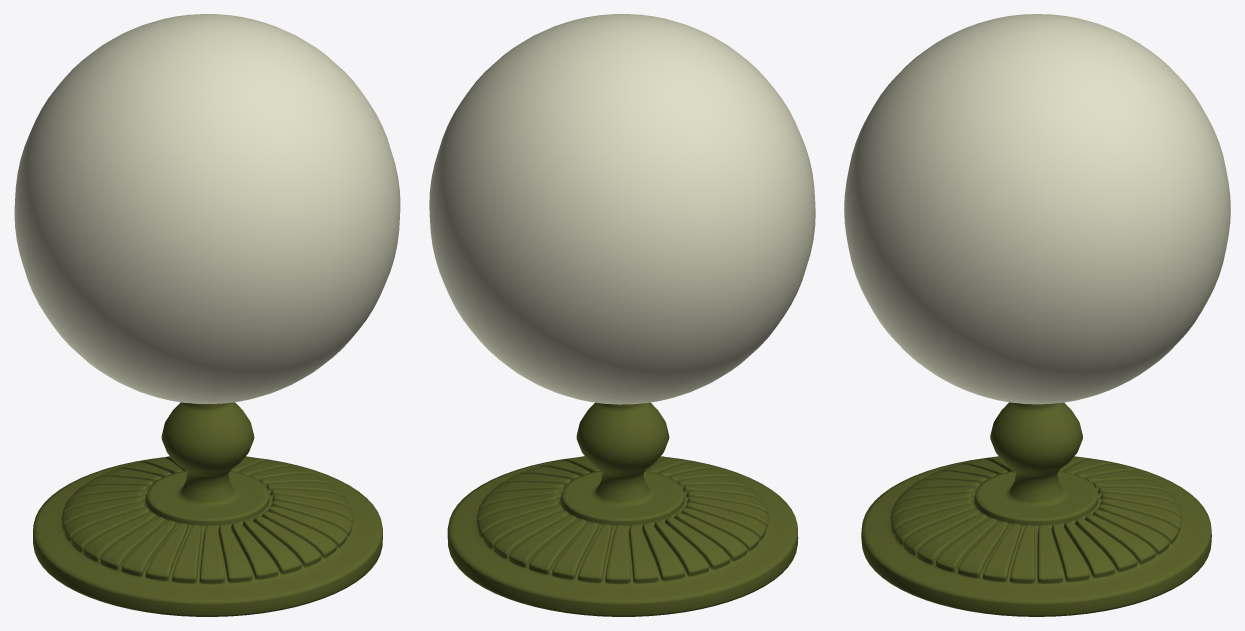
Rendered from uploads_files_1911167_magic_sphere.FBX.
3 views of the same model, side by side, from view 1: azimuth 30°, elevation 25°; view 2: azimuth 150°, elevation 25°; view 3: azimuth 270°, elevation 25° (orthographic).
Visible parts, largest first — view 1: pSphere1, Cylinder222418; view 2: pSphere1, Cylinder222418; view 3: pSphere1, Cylinder222418.
Part boxes in pixels (box(x1,y1,x2,y2)): pSphere1: box(14, 14, 400, 403); Cylinder222418: box(33, 402, 382, 616); pSphere1: box(429, 14, 815, 404); Cylinder222418: box(447, 402, 798, 616); pSphere1: box(844, 14, 1230, 404); Cylinder222418: box(861, 402, 1211, 616).
Bounding box in the file's own units: 28.97 × 42.35 × 28.97.
